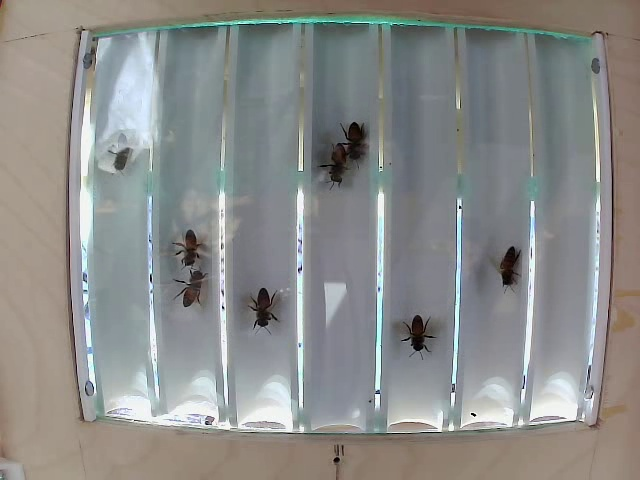bee: (178, 260, 217, 315), (339, 121, 374, 178), (245, 282, 283, 332), (315, 142, 346, 192), (397, 315, 435, 354), (495, 242, 522, 285), (176, 230, 201, 259)
